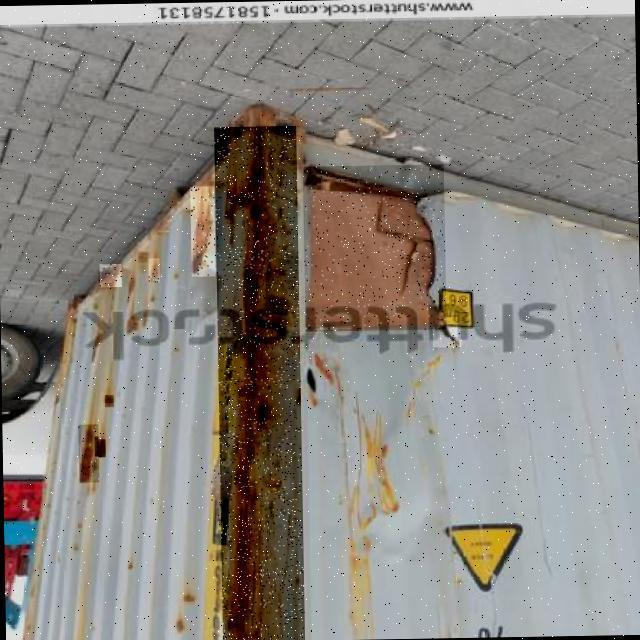rust: (214, 126, 305, 640), (303, 165, 447, 332), (191, 187, 216, 277), (79, 425, 100, 483), (211, 460, 232, 501), (100, 265, 122, 288), (149, 257, 160, 283), (95, 438, 106, 458), (106, 396, 115, 408)
